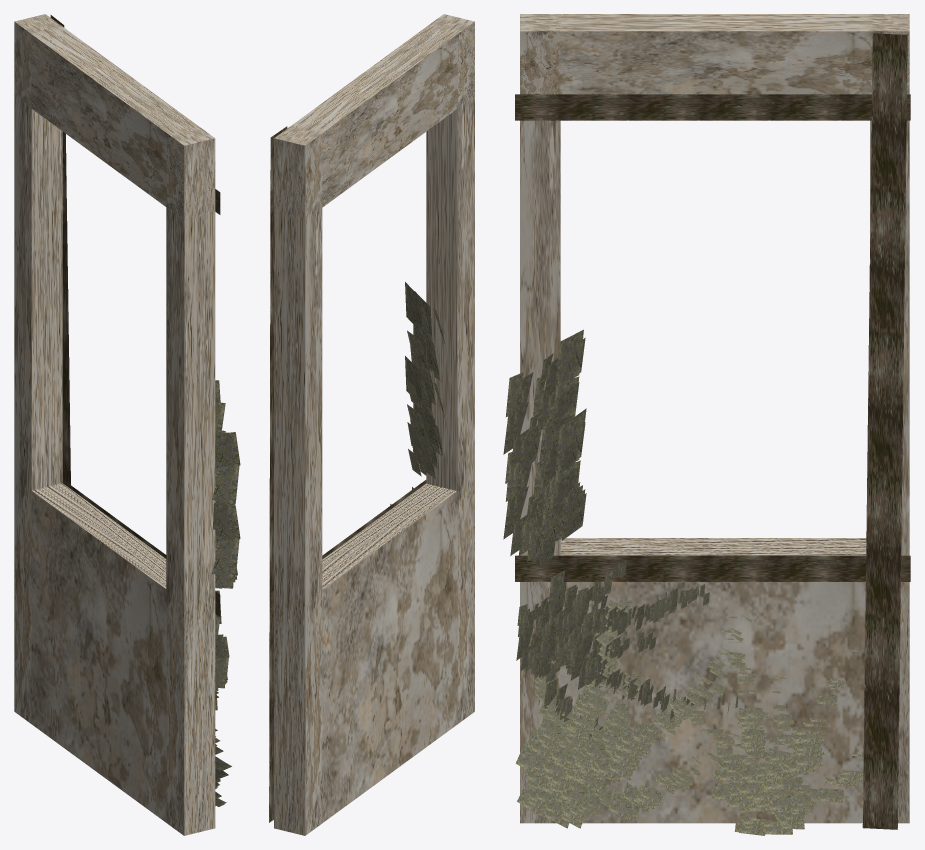
Rendered from SingleWallWindow2.fbx.
3 views of the same model, side by side, from view 1: azimuth 30°, elevation 25°; view 2: azimuth 150°, elevation 25°; view 3: azimuth 270°, elevation 25° (orthographic). The views are drawn at different scales.
Visible parts, largest first — view 1: Cube.026, Plane.012, IvyLeaf.010, IvyLeaf.009, IvyLeaf.007, Plane.007, IvyLeaf.004; view 2: Cube.026, Plane.012, IvyLeaf.009, IvyLeaf.010, Plane.007; view 3: Cube.026, Plane.012, IvyLeaf.004, IvyLeaf.005, IvyLeaf.007, Plane.022, Plane.007, IvyLeaf.009, IvyLeaf.010.
Boxes of the visible parts, x1=… form: Cube.026: x1=14, y1=14, x2=215, y2=835; Plane.012: x1=50, y1=15, x2=70, y2=484; IvyLeaf.010: x1=212, y1=380, x2=240, y2=514; IvyLeaf.009: x1=212, y1=502, x2=240, y2=623; IvyLeaf.007: x1=215, y1=614, x2=229, y2=710; Plane.007: x1=62, y1=479, x2=220, y2=616; IvyLeaf.004: x1=215, y1=690, x2=231, y2=806; Cube.026: x1=274, y1=14, x2=474, y2=835; Plane.012: x1=269, y1=126, x2=287, y2=822; IvyLeaf.009: x1=405, y1=356, x2=445, y2=489; IvyLeaf.010: x1=405, y1=282, x2=445, y2=468; Plane.007: x1=270, y1=480, x2=426, y2=615; Cube.026: x1=520, y1=14, x2=909, y2=823; Plane.012: x1=862, y1=33, x2=907, y2=829; IvyLeaf.004: x1=515, y1=599, x2=752, y2=828; IvyLeaf.005: x1=688, y1=616, x2=863, y2=835; IvyLeaf.007: x1=516, y1=560, x2=738, y2=737; Plane.022: x1=515, y1=94, x2=910, y2=120; Plane.007: x1=515, y1=555, x2=910, y2=581; IvyLeaf.009: x1=503, y1=414, x2=586, y2=616; IvyLeaf.010: x1=503, y1=329, x2=586, y2=528.
Size of the model in its own units: 39.11 by 455 by 210.
